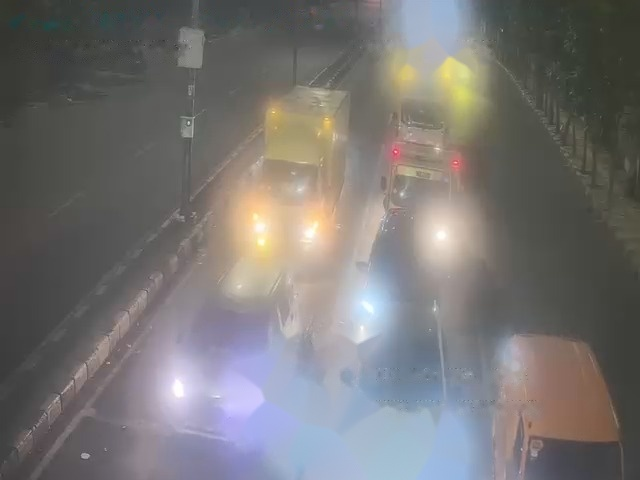Mobil: (187, 256, 302, 431), (496, 369, 630, 477), (363, 306, 450, 465), (360, 221, 439, 309)
Truk: (250, 85, 343, 249), (391, 74, 454, 163), (390, 151, 456, 235)
